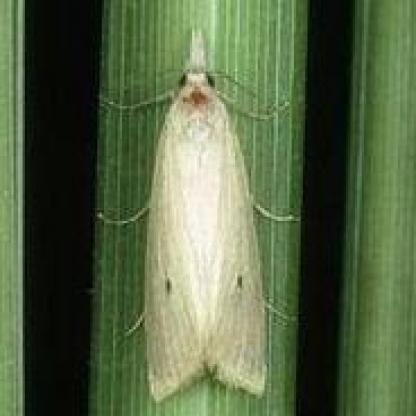stem-borer: (119, 24, 277, 404)
